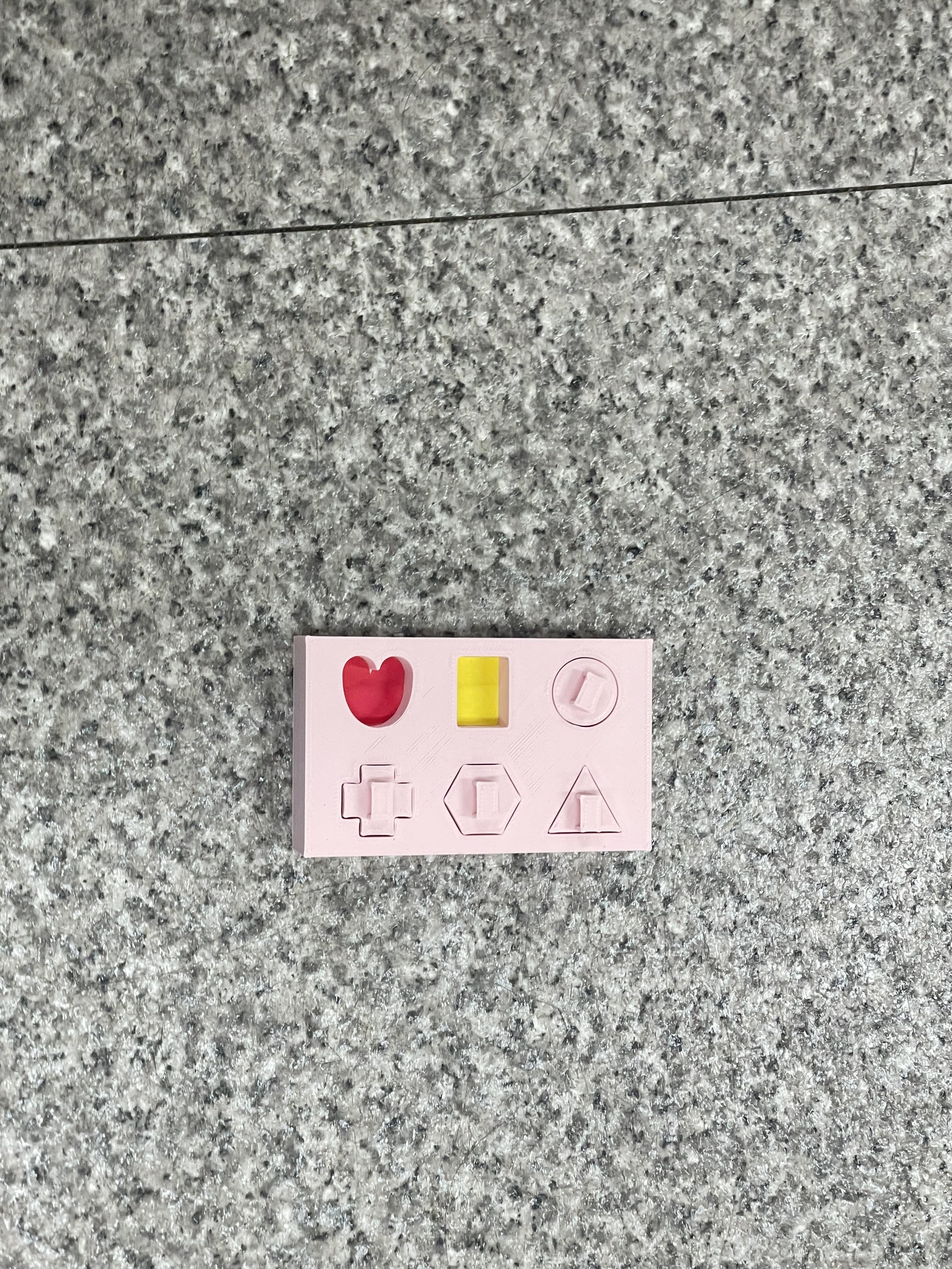unsolved: (302, 618, 674, 873)
